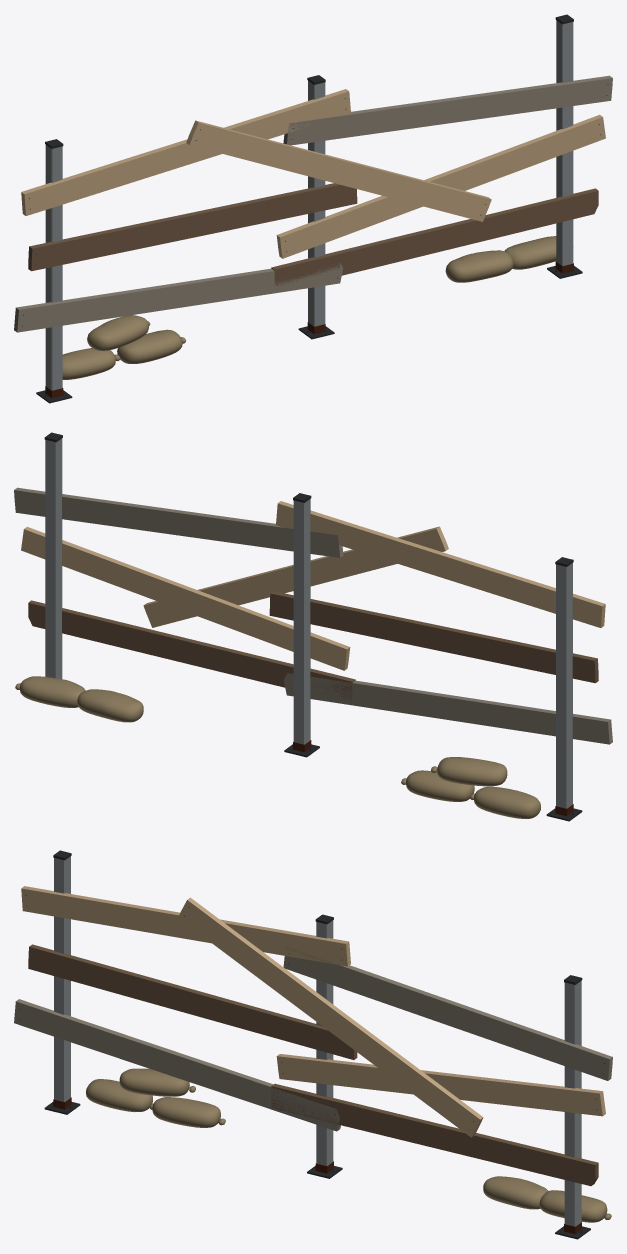
Rendered from door_barricade.gltf.
The picture shows the model from 3 angles, top to bottom: view 1: azimuth 30°, elevation 25°; view 2: azimuth 150°, elevation 25°; view 3: azimuth 330°, elevation 25°; orthographic projection.
Visible parts, largest first — view 1: door_barricade; view 2: door_barricade; view 3: door_barricade.
Boxes of the visible parts, bbox=[...] form: door_barricade: bbox=[14, 14, 612, 403]; door_barricade: bbox=[14, 432, 612, 821]; door_barricade: bbox=[14, 850, 612, 1239].
Size of the model in its own units: 8.4 by 3.41 by 0.8555.
